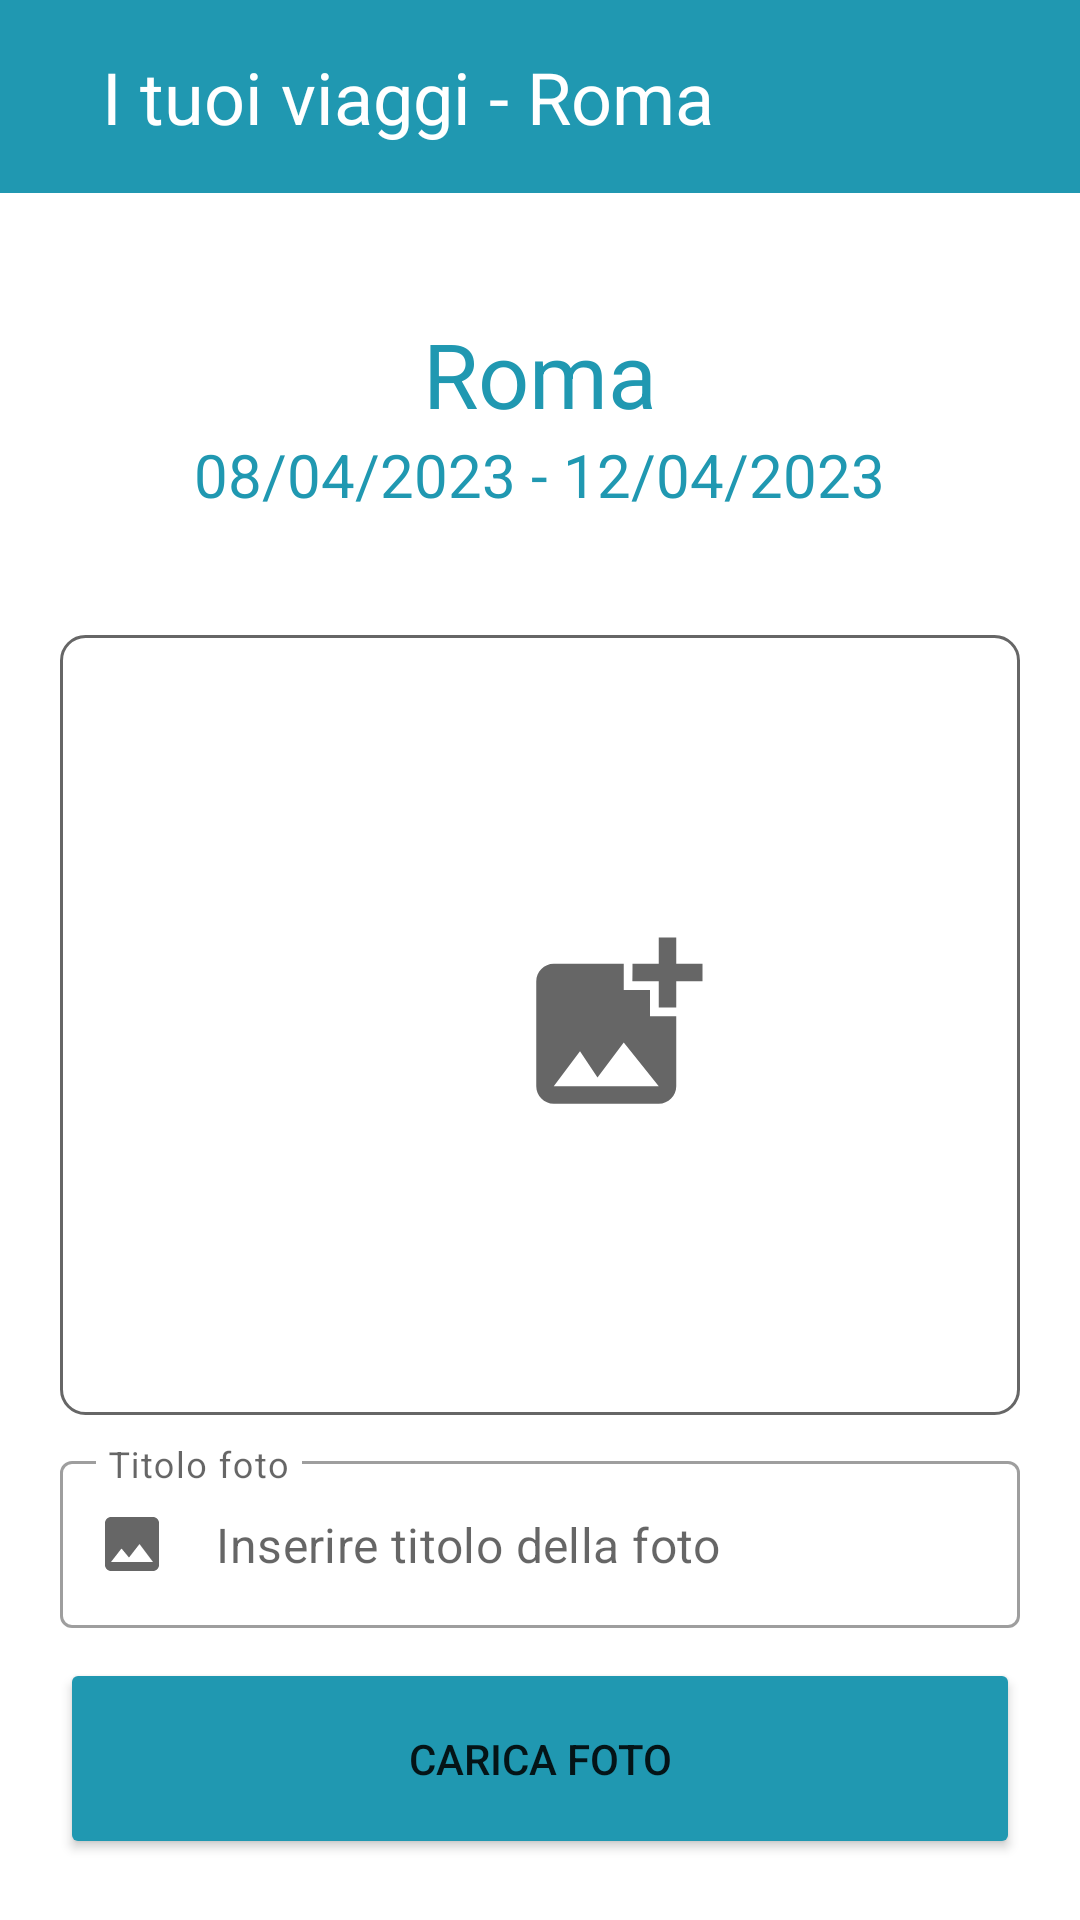

Icons on this 1080x1920 Android screen, each with its box as (x1, y1, x2, y2):
add photo alternate: (536, 937, 703, 1104)
